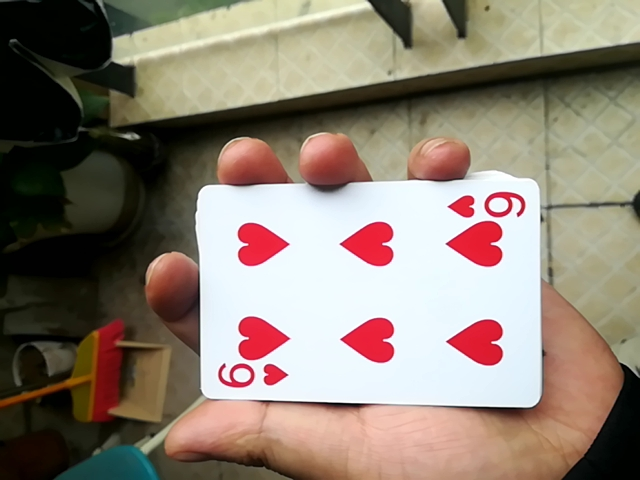hx 6: (187, 171, 545, 413)
